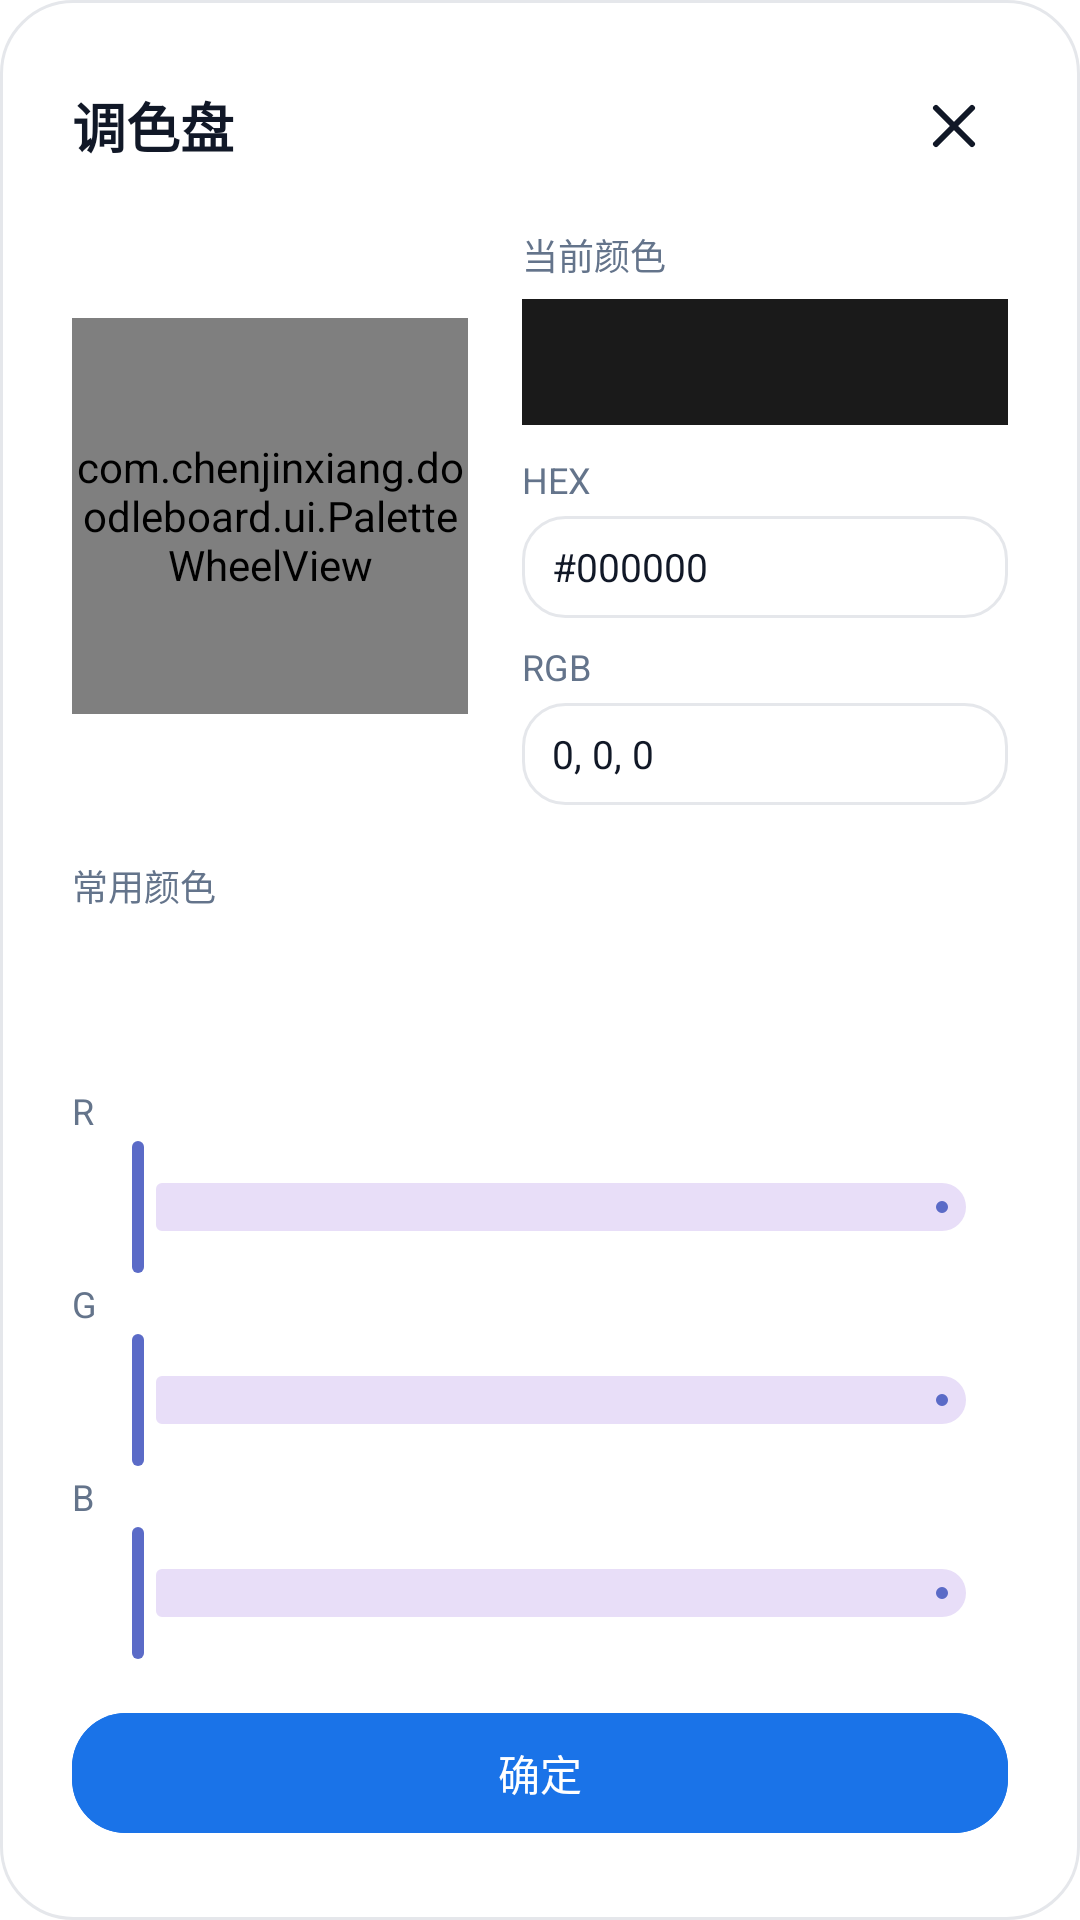

Locate icon controls on the screen. Image size 1080 x 1920, boxes as box=[x1, y1, x2, y2].
取消: box=[933, 105, 975, 147]
